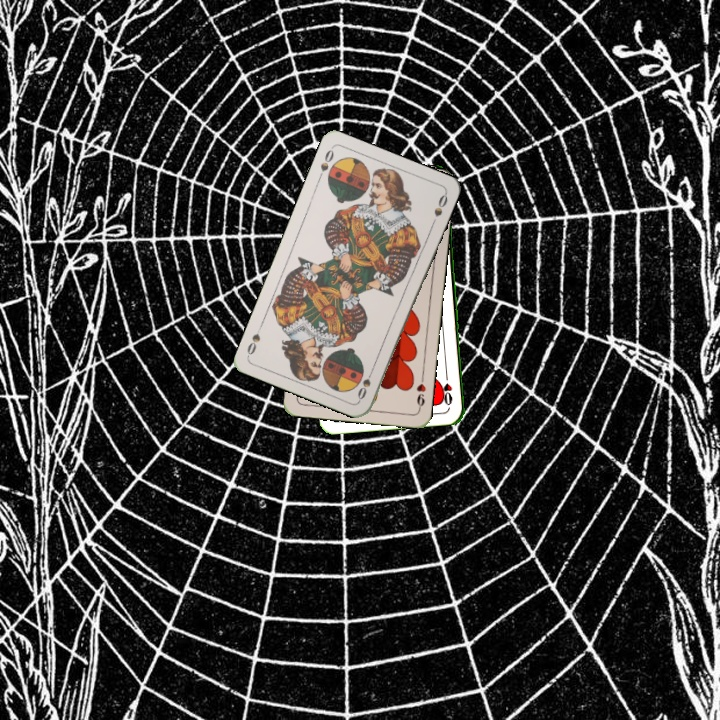H9: (412, 372, 428, 412)
HO: (441, 368, 455, 408)
SO: (353, 364, 377, 402), (314, 145, 336, 183)
